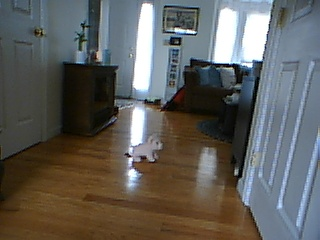piggy: (129, 133, 164, 165)
